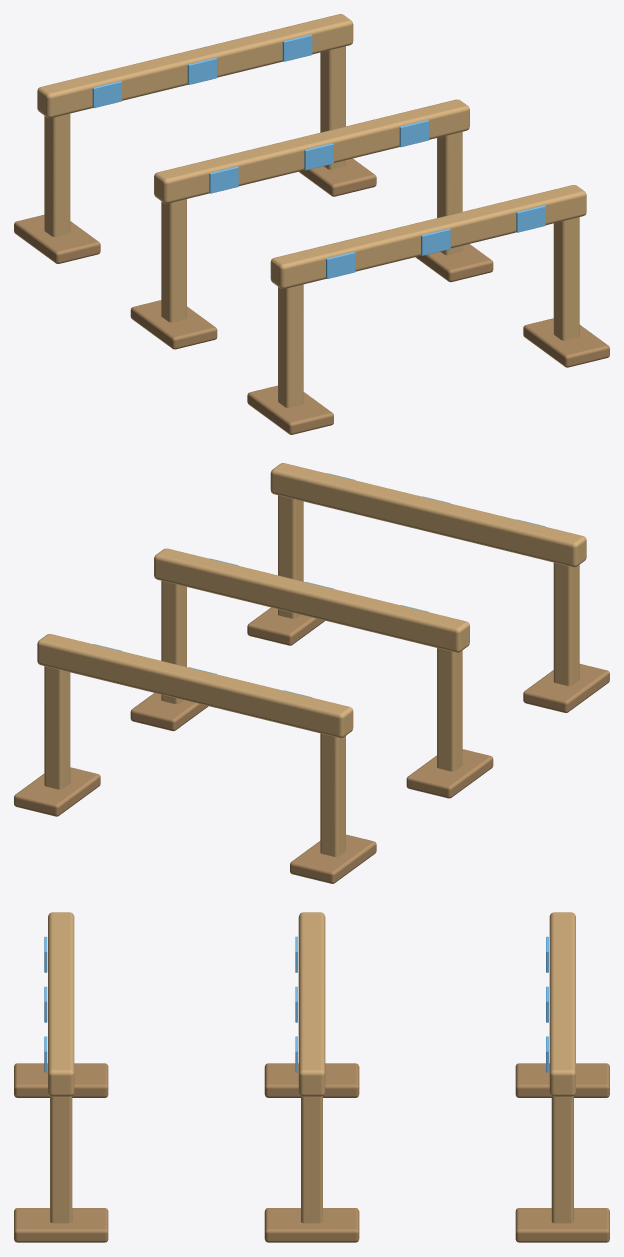
Rendered from training_hurdles.glb.
The picture shows the model from 3 angles, top to bottom: view 1: azimuth 30°, elevation 25°; view 2: azimuth 150°, elevation 25°; view 3: azimuth 270°, elevation 25°; orthographic projection. The views are drawn at different scales.
Parts seen in each view (by area): view 1: Hurdle_Beam_3, Hurdle_Beam_2, Hurdle_Beam, Hurdle_Post, Hurdle_Post_6, Hurdle_Post_3, Hurdle_Post_5, Hurdle_Foot_3, Hurdle_Foot, Hurdle_Foot_5, Hurdle_Foot_6, Hurdle_Post_2 (+12 smaller); view 2: Hurdle_Beam_3, Hurdle_Beam, Hurdle_Beam_2, Hurdle_Post_5, Hurdle_Post_2, Hurdle_Post_3, Hurdle_Post, Hurdle_Foot_3, Hurdle_Foot_5, Hurdle_Foot, Hurdle_Foot_2, Hurdle_Post_6 (+3 smaller); view 3: Hurdle_Beam_2, Hurdle_Beam, Hurdle_Beam_3, Hurdle_Foot_4, Hurdle_Foot_2, Hurdle_Foot_6, Hurdle_Post_2, Hurdle_Post_6, Hurdle_Post_4, Hurdle_Foot_3, Hurdle_Foot_5, Hurdle_Foot.
Part boxes in pixels (<box>): Hurdle_Beam_3: <box>270,185,586,288</box>; Hurdle_Beam_2: <box>154,99,469,203</box>; Hurdle_Beam: <box>37,14,353,118</box>; Hurdle_Post: <box>44,113,70,237</box>; Hurdle_Post_6: <box>553,217,579,340</box>; Hurdle_Post_3: <box>161,199,186,322</box>; Hurdle_Post_5: <box>278,284,303,407</box>; Hurdle_Foot_3: <box>130,300,217,349</box>; Hurdle_Foot: <box>14,215,100,263</box>; Hurdle_Foot_5: <box>247,385,333,434</box>; Hurdle_Foot_6: <box>523,318,609,367</box>; Hurdle_Post_2: <box>320,46,345,169</box>; Hurdle_Beam_3: <box>270,463,586,567</box>; Hurdle_Beam: <box>37,634,353,737</box>; Hurdle_Beam_2: <box>154,548,469,652</box>; Hurdle_Post_5: <box>553,562,579,686</box>; Hurdle_Post_2: <box>44,666,70,789</box>; Hurdle_Post_3: <box>437,648,462,771</box>; Hurdle_Post: <box>320,733,345,856</box>; Hurdle_Foot_3: <box>406,749,493,798</box>; Hurdle_Foot_5: <box>523,664,609,712</box>; Hurdle_Foot: <box>290,834,376,883</box>; Hurdle_Foot_2: <box>14,767,100,816</box>; Hurdle_Post_6: <box>278,495,303,618</box>; Hurdle_Beam_2: <box>298,912,325,1096</box>; Hurdle_Beam: <box>549,912,575,1096</box>; Hurdle_Beam_3: <box>48,912,74,1096</box>; Hurdle_Foot_4: <box>264,1208,359,1242</box>; Hurdle_Foot_2: <box>515,1208,609,1242</box>; Hurdle_Foot_6: <box>14,1208,108,1242</box>; Hurdle_Post_2: <box>551,1096,573,1223</box>; Hurdle_Post_6: <box>50,1096,72,1223</box>; Hurdle_Post_4: <box>301,1096,322,1223</box>; Hurdle_Foot_3: <box>264,1063,359,1097</box>; Hurdle_Foot_5: <box>14,1063,108,1097</box>; Hurdle_Foot: <box>515,1063,609,1097</box>.
Bounding box in the file's own units: 1.35 × 0.63 × 2.02.
